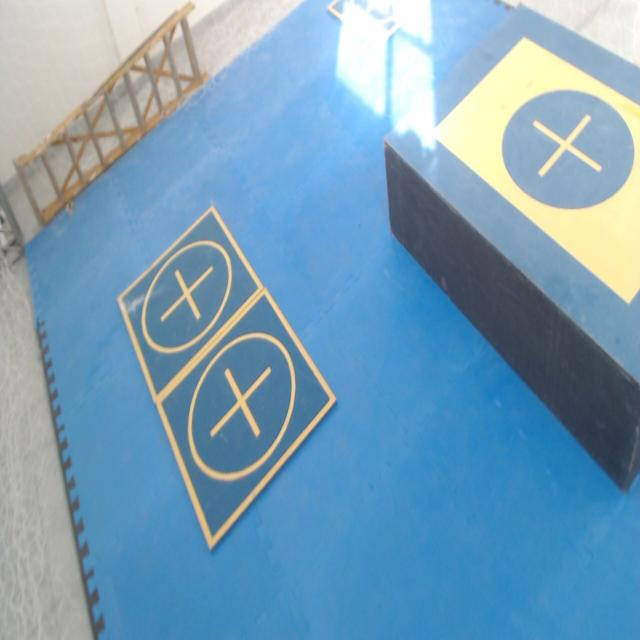base_inicio: (428, 36, 640, 304)
base_pouso: (154, 284, 337, 554), (118, 204, 264, 407), (326, 0, 427, 51)
